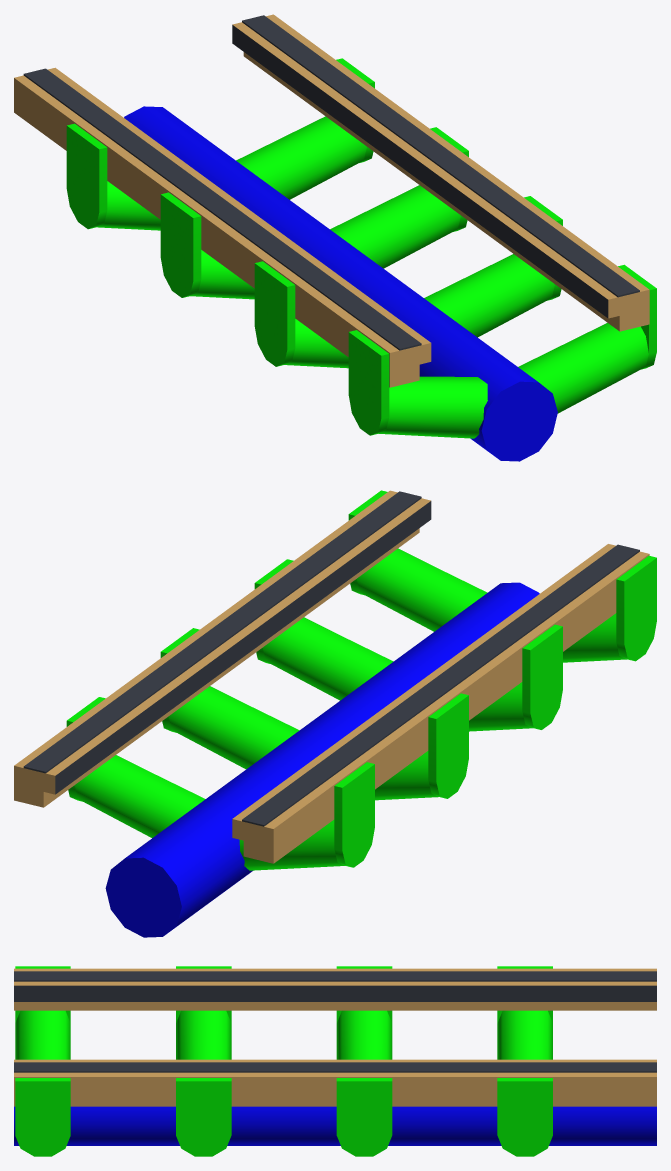
The model's file is track_mockup_steelspine.fbx.
3 views of the same model, one above another, from view 1: azimuth 30°, elevation 25°; view 2: azimuth 150°, elevation 25°; view 3: azimuth 270°, elevation 25° (orthographic). The views are drawn at different scales.
Parts seen in each view (by area): view 1: track_mockup_steelspine; view 2: track_mockup_steelspine; view 3: track_mockup_steelspine.
Part boxes in pixels (x1,y1,x2,y2): track_mockup_steelspine: (14, 14, 656, 461); track_mockup_steelspine: (14, 490, 656, 937); track_mockup_steelspine: (14, 966, 656, 1156).
Bounding box in the file's own units: 0.4234 × 0.208 × 1.
